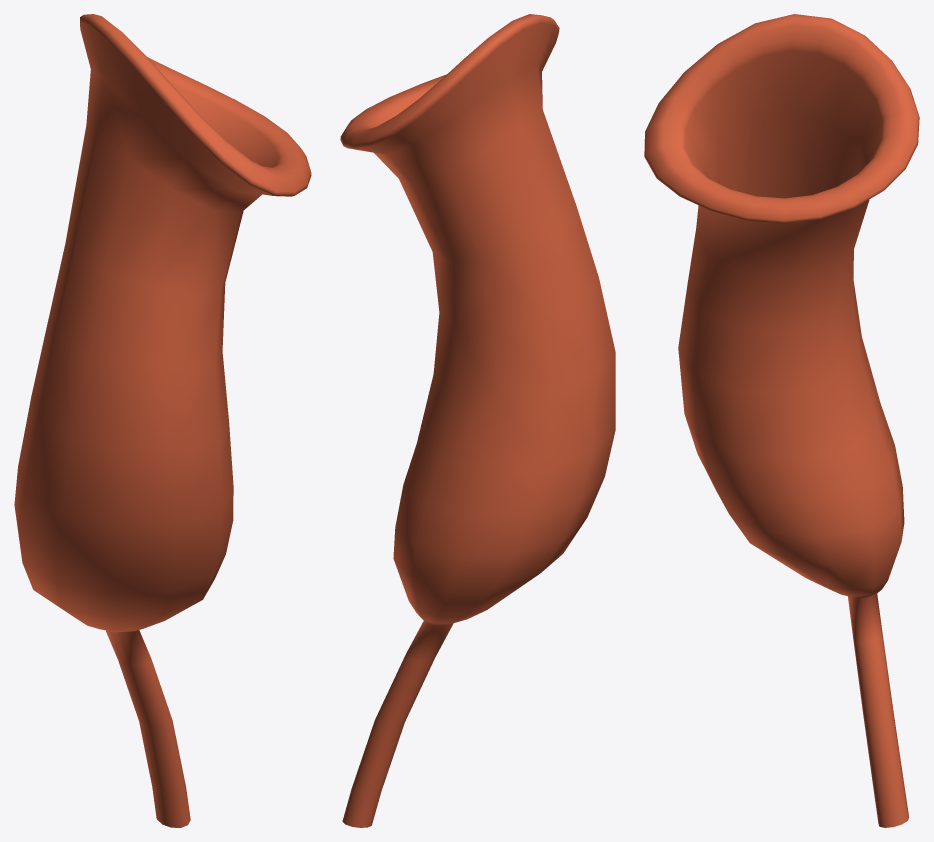
The model's file is MESH_Beach_Props_Plants_03.fbx.
3 views of the same model, side by side, from view 1: azimuth 30°, elevation 25°; view 2: azimuth 150°, elevation 25°; view 3: azimuth 270°, elevation 25° (orthographic). The views are drawn at different scales.
Parts seen in each view (by area): view 1: MESH_Beach_Props_Plants_03; view 2: MESH_Beach_Props_Plants_03; view 3: MESH_Beach_Props_Plants_03.
Part boxes in pixels (x1,y1,x2,y2): MESH_Beach_Props_Plants_03: (14,14,311,827); MESH_Beach_Props_Plants_03: (340,14,615,827); MESH_Beach_Props_Plants_03: (644,14,919,827).
Size of the model in its own units: 2.33 by 7.4 by 2.43.
